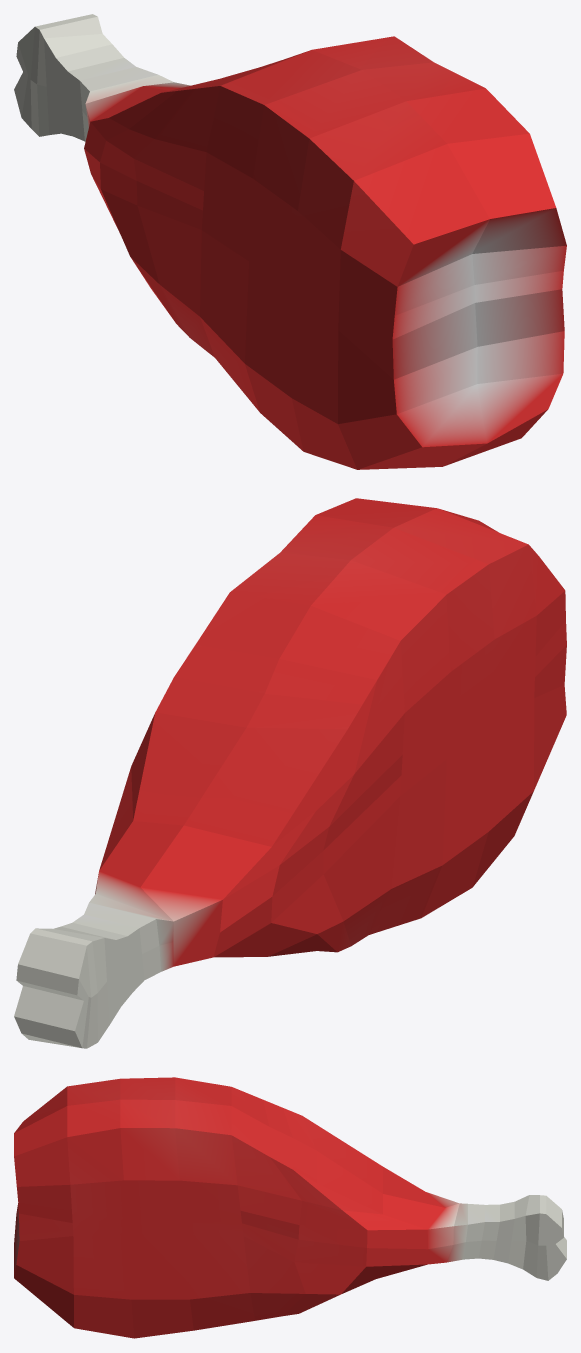
Rendered from Bait_placeholder.fbx.
3 renders of one model, top to bottom at view 1: azimuth 30°, elevation 25°; view 2: azimuth 150°, elevation 25°; view 3: azimuth 270°, elevation 25°, orthographic. The views are drawn at different scales.
Visible parts, largest first — view 1: HamBone; view 2: HamBone; view 3: HamBone.
Boxes of the visible parts, x1,y1,x2,y2 form: HamBone: [14, 14, 566, 469]; HamBone: [14, 498, 566, 1048]; HamBone: [14, 1077, 566, 1338].
Size of the model in its own units: 241 by 409 by 930.
